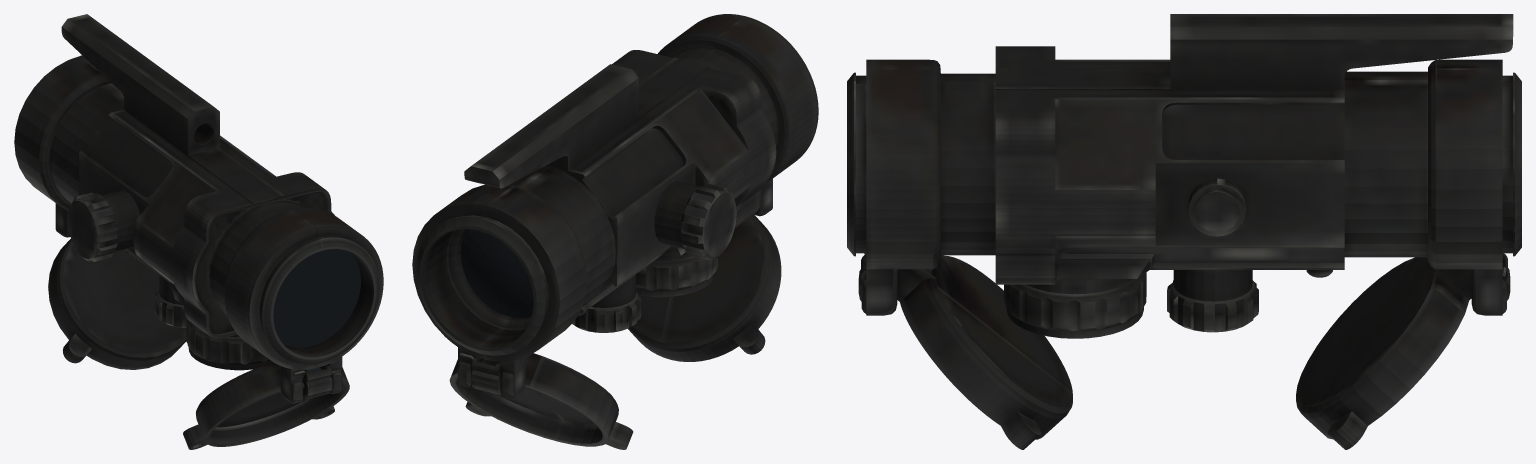
The picture shows the model from 3 angles, left to right: view 1: azimuth 30°, elevation 25°; view 2: azimuth 150°, elevation 25°; view 3: azimuth 270°, elevation 25°; orthographic projection. The views are drawn at different scales.
Visible parts, largest first — view 1: TW_5c1cdd512e22161b267d91ae_PZ_Import; view 2: TW_5c1cdd512e22161b267d91ae_PZ_Import; view 3: TW_5c1cdd512e22161b267d91ae_PZ_Import.
Boxes of the visible parts, x1,y1,x2,y2 form: TW_5c1cdd512e22161b267d91ae_PZ_Import: [14, 14, 383, 449]; TW_5c1cdd512e22161b267d91ae_PZ_Import: [412, 14, 818, 449]; TW_5c1cdd512e22161b267d91ae_PZ_Import: [847, 14, 1521, 449].
Size of the model in its own units: 0.0362 by 0.0858 by 0.057.
1 material, 1 textured.
